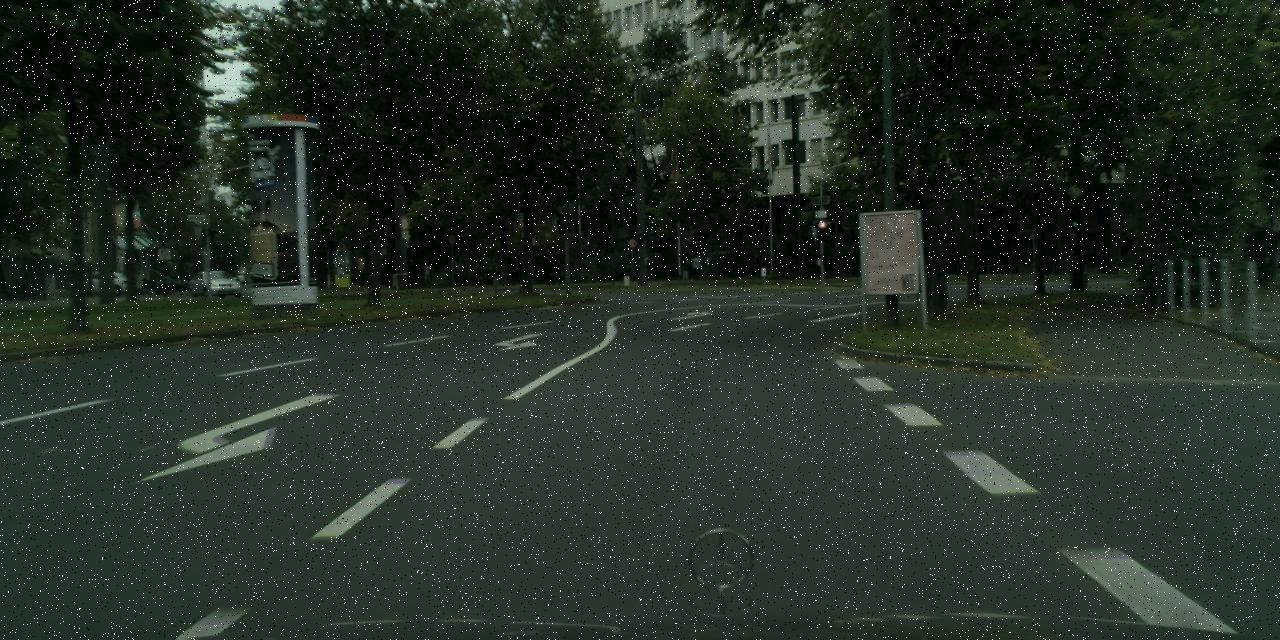ped: (690, 254, 701, 281)
